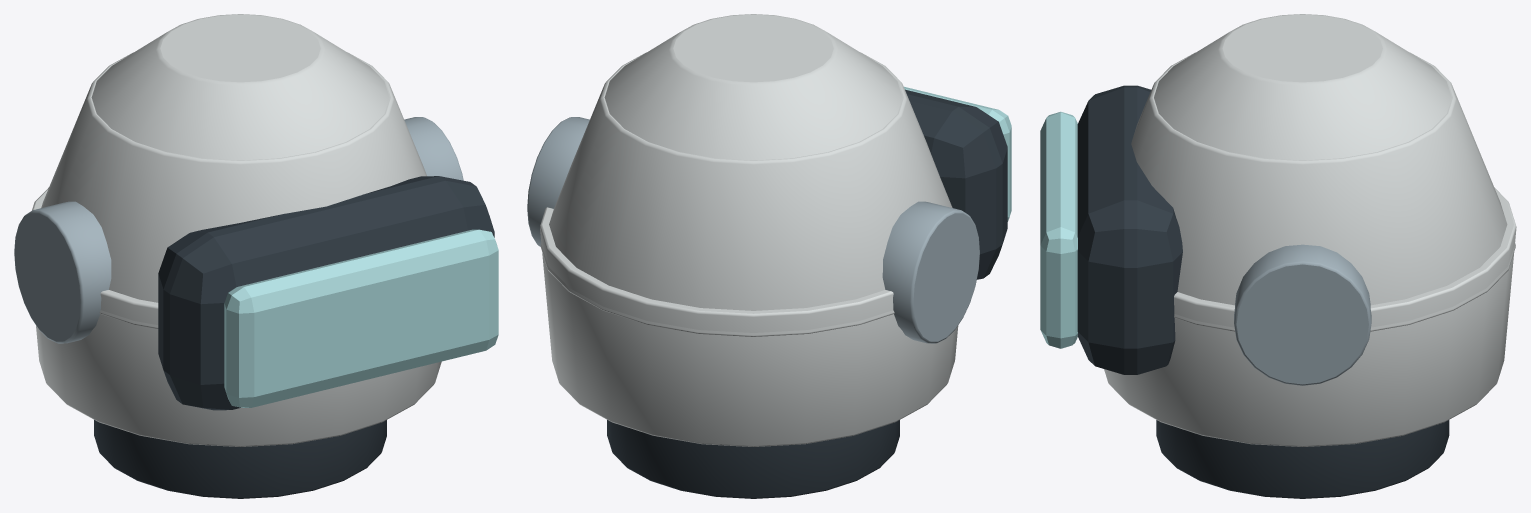
File: helmet.glb
3 renders of one model, left to right at view 1: azimuth 30°, elevation 25°; view 2: azimuth 150°, elevation 25°; view 3: azimuth 270°, elevation 25°, orthographic.
Parts seen in each view (by area): view 1: Visor, Crown cap, Helmet crown, Visor frame, Helmet base, Lower collar, Side cover, Side cover.001; view 2: Helmet crown, Helmet base, Crown cap, Lower collar, Side cover, Visor frame, Side cover.001, Visor; view 3: Helmet crown, Helmet base, Crown cap, Visor frame, Side cover.001, Lower collar, Visor.
Boxes of the visible parts, left/top/right/bottom form: Visor: left=224, top=229, right=498, bottom=407; Crown cap: left=91, top=14, right=389, bottom=160; Helmet crown: left=41, top=52, right=426, bottom=328; Visor frame: left=158, top=176, right=494, bottom=410; Helmet base: left=32, top=187, right=441, bottom=446; Lower collar: left=94, top=420, right=386, bottom=498; Side cover: left=14, top=201, right=111, bottom=343; Side cover.001: left=404, top=117, right=463, bottom=180; Helmet crown: left=540, top=52, right=952, bottom=336; Helmet base: left=540, top=207, right=958, bottom=446; Crown cap: left=604, top=14, right=902, bottom=160; Lower collar: left=607, top=420, right=899, bottom=498; Side cover: left=882, top=201, right=979, bottom=343; Visor frame: left=905, top=89, right=1007, bottom=279; Side cover.001: left=527, top=117, right=589, bottom=246; Visor: left=904, top=86, right=1011, bottom=221; Helmet crown: left=1131, top=52, right=1515, bottom=331; Helmet base: left=1104, top=187, right=1516, bottom=446; Crown cap: left=1154, top=14, right=1451, bottom=160; Visor frame: left=1077, top=85, right=1182, bottom=374; Side cover.001: left=1234, top=244, right=1371, bottom=385; Lower collar: left=1156, top=420, right=1449, bottom=498; Visor: left=1040, top=111, right=1077, bottom=348.
Size of the model in its own units: 0.35 by 0.3375 by 0.3738.
